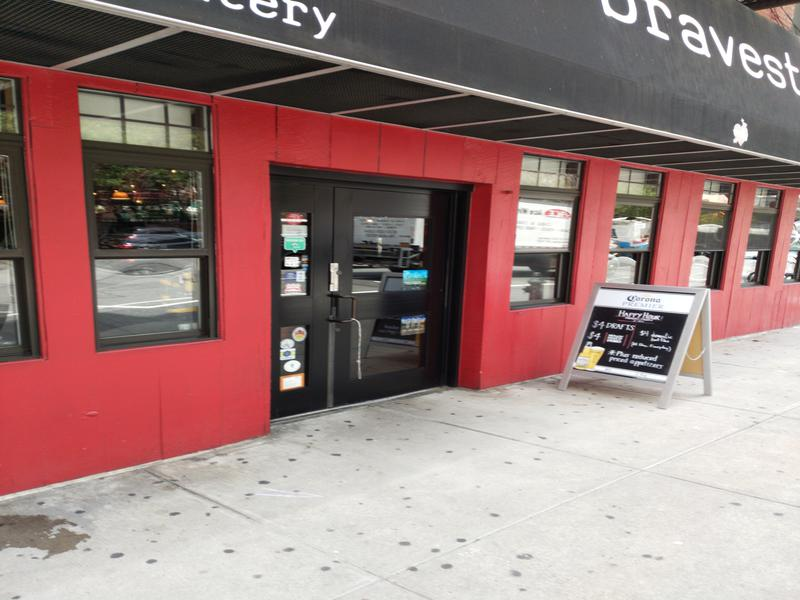door: (326, 171, 479, 409)
